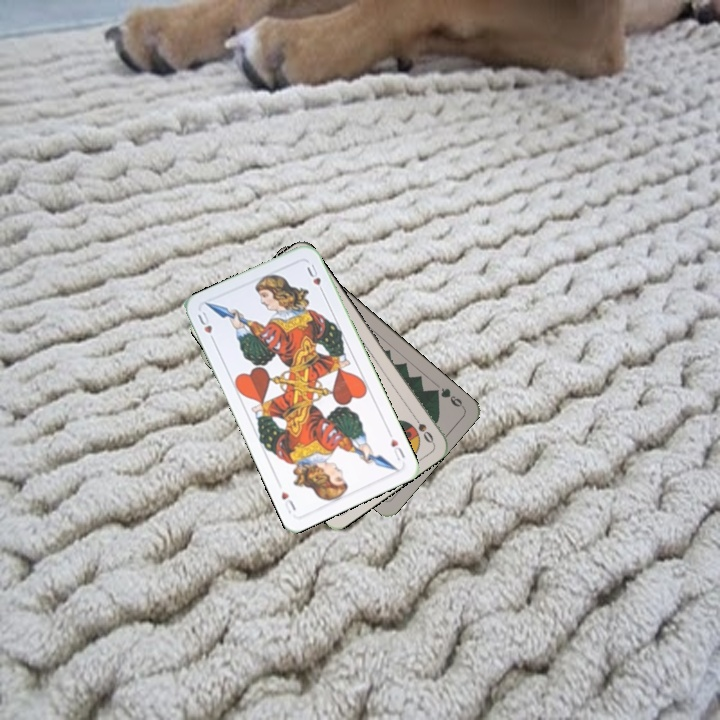G9: (428, 384, 466, 410)
HU: (194, 307, 218, 346), (384, 428, 407, 463)
SO: (408, 410, 436, 446)
